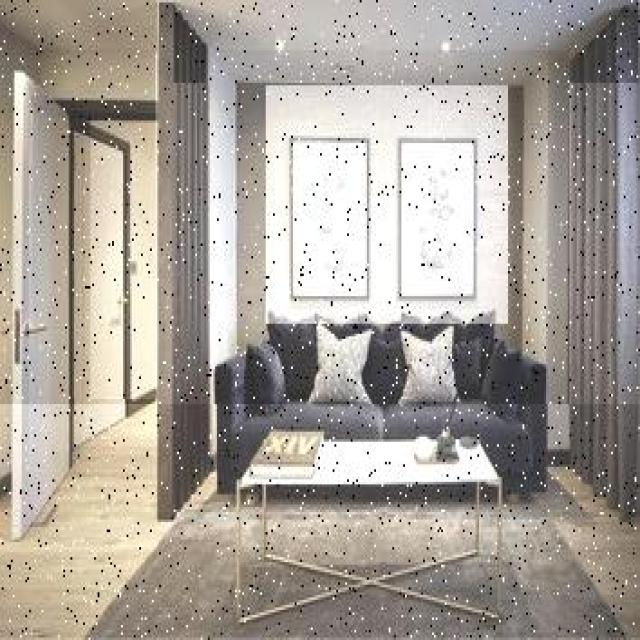Wall: (0, 405, 640, 637), (211, 50, 569, 454), (0, 10, 155, 477), (267, 88, 508, 324), (175, 1, 638, 83), (271, 488, 472, 575), (92, 122, 155, 399), (243, 495, 342, 612), (397, 494, 490, 607), (0, 0, 157, 53)
